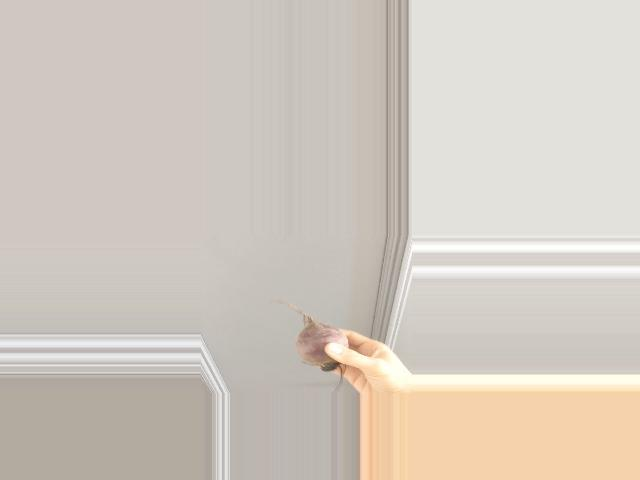beet: (268, 300, 347, 394)
